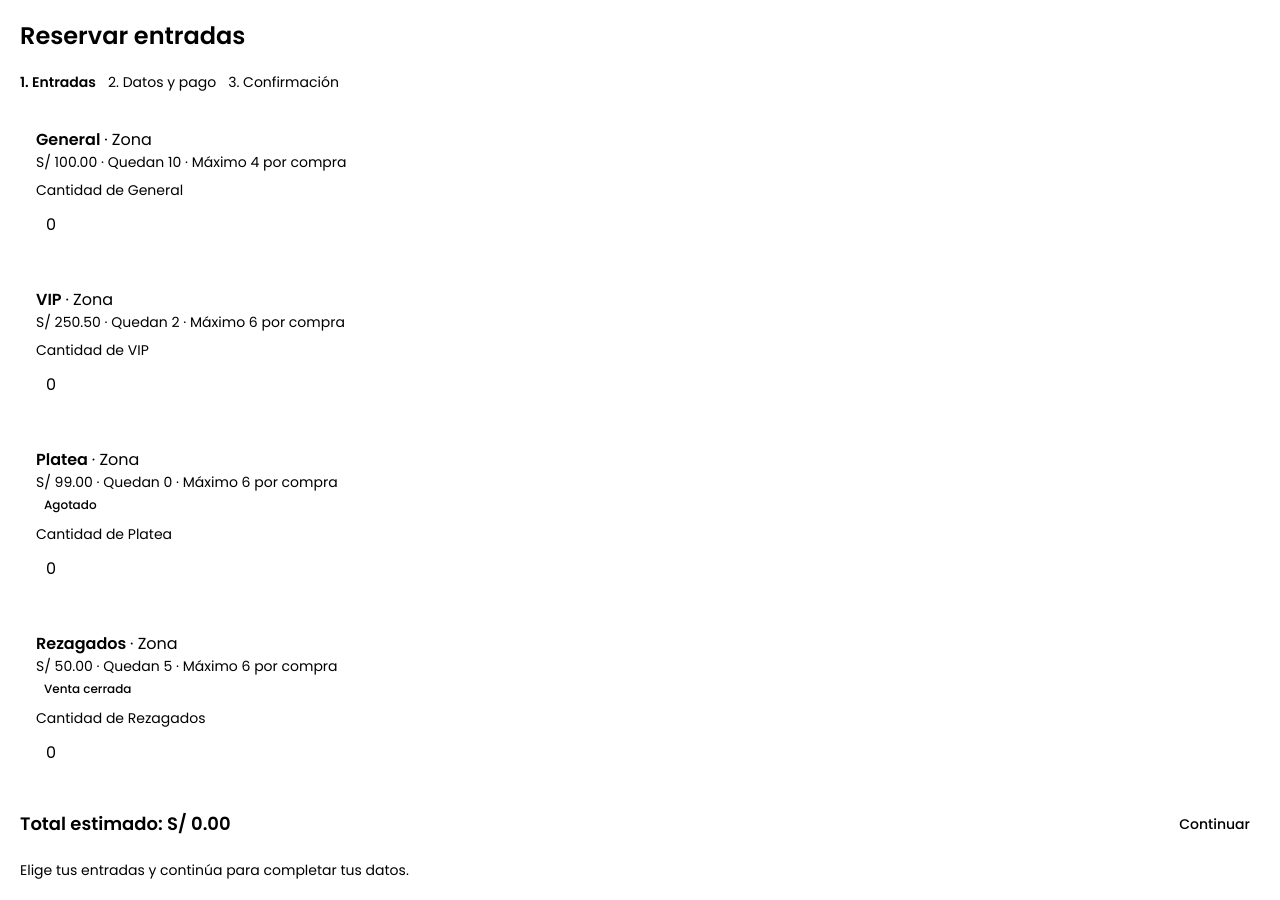
Test: TicketCheckout › clamps quantities to the order limit and the remaining stock
Replace the text in the number field labelled "Cantidad de General" with "9": (84, 224) [36, 204, 132, 244]
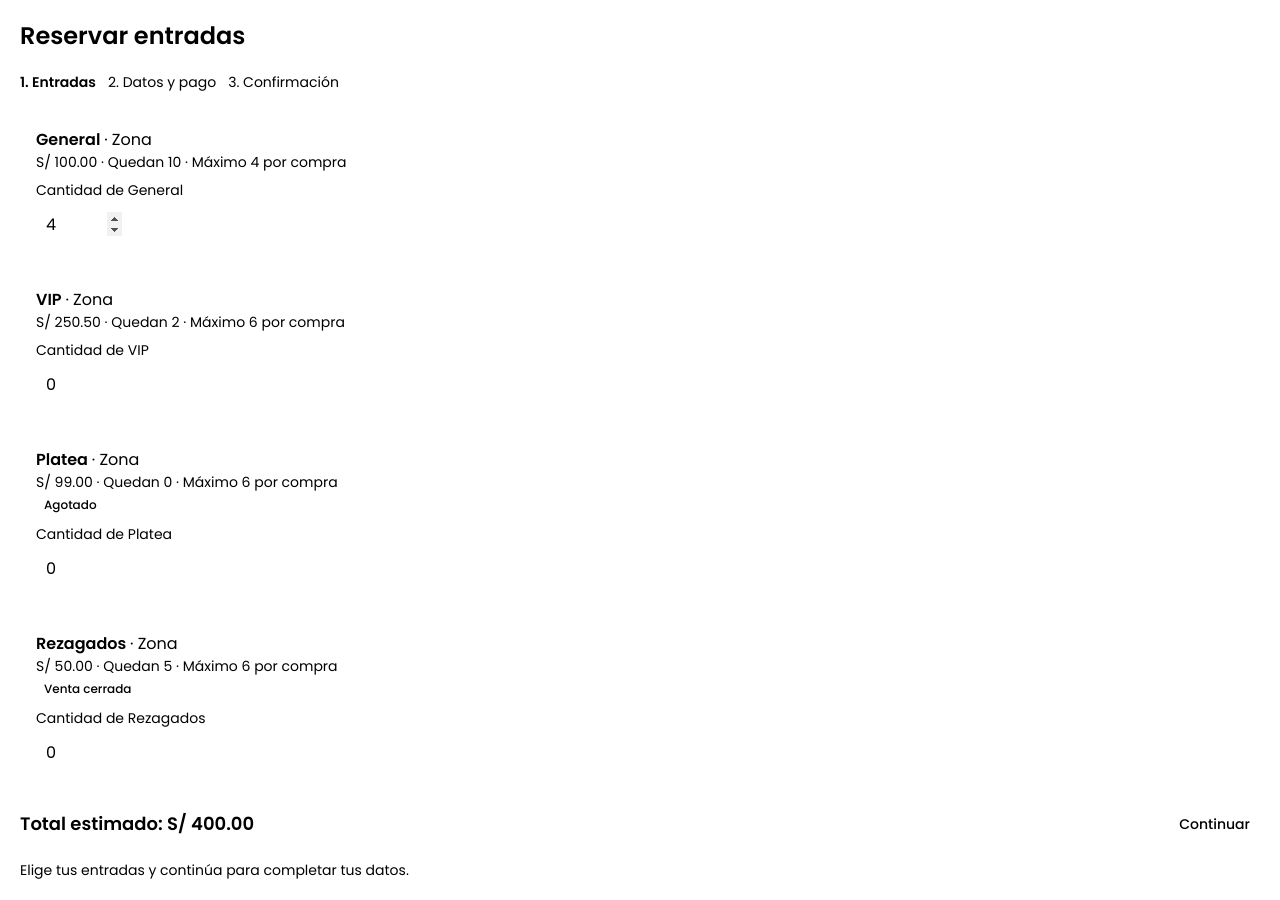
Expected: the number field labelled "Cantidad de General" holds "4", [36, 204, 132, 244]
Replace the text in the number field labelled "Cantidad de VIP" with "5": (84, 384) [36, 364, 132, 404]
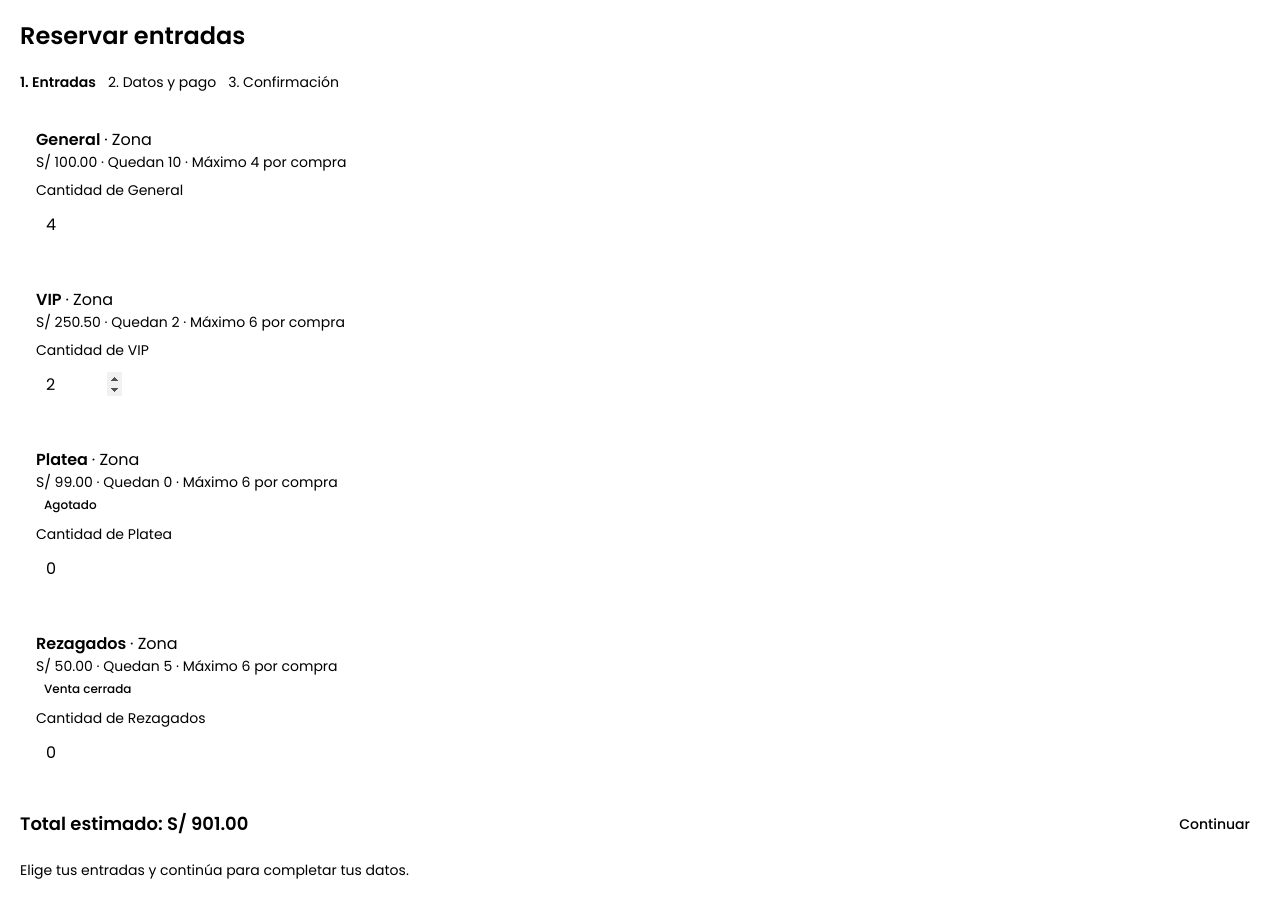
Expected: the number field labelled "Cantidad de VIP" holds "2", [36, 364, 132, 404]
